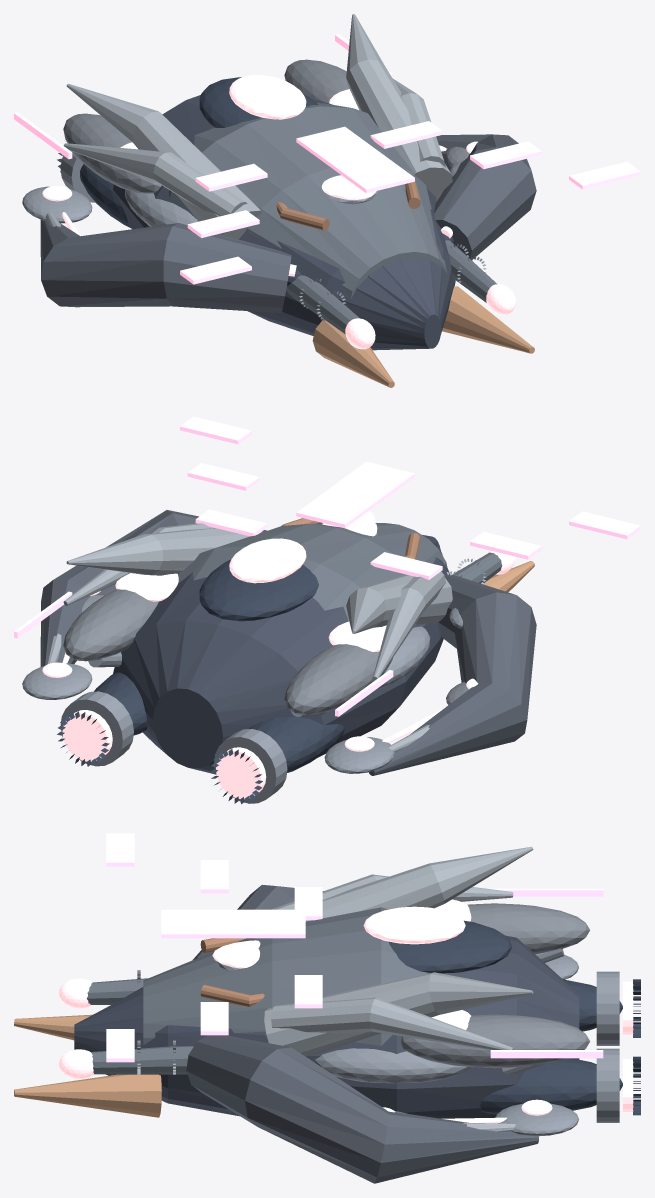
File: npc_bossMordon.glb
3 views of the same model, one above another, from view 1: azimuth 30°, elevation 25°; view 2: azimuth 150°, elevation 25°; view 3: azimuth 270°, elevation 25° (orthographic). The views are drawn at different scales.
Visible parts, largest first — view 1: upper_armor_scar, armored_scythe_-1, keel_pressure_hull, V59 trim baked, armored_scythe_1, prime_arch_back_1, prime_arch_back_-1, kharon_battle_bridge_-1, kharon_reinforced_nacelle_-1, prime_secondary_horn_1, prime_emitter, prime_secondary_horn_-1 (+13 smaller); view 2: keel_pressure_hull, armored_scythe_-1, V59 trim baked, upper_armor_scar, prime_arch_back_1, prime_reactor_tower, kharon_reinforced_nacelle_-1, kharon_reinforced_nacelle_1, armored_scythe_1, prime_arch_back_-1, engine_armor_-1, prime_emitter (+14 smaller); view 3: armored_scythe_1, keel_pressure_hull, upper_armor_scar, V59 trim baked, prime_arch_back_1, prime_arch_back_-1, kharon_battle_bridge_1, kharon_reinforced_nacelle_1, prime_secondary_horn_1, engine_armor_1, kharon_reinforced_nacelle_-1, prime_reactor_tower (+18 smaller).
Boxes of the visible parts, x1,y1,x2,y2 form: upper_armor_scar: (169, 103, 447, 298); armored_scythe_-1: (40, 220, 291, 312); keel_pressure_hull: (113, 95, 455, 350); V59 trim baked: (14, 34, 640, 284); armored_scythe_1: (434, 134, 536, 260); prime_arch_back_1: (346, 14, 452, 200); prime_arch_back_-1: (66, 83, 262, 239); kharon_battle_bridge_-1: (63, 143, 247, 216); kharon_reinforced_nacelle_-1: (63, 113, 161, 193); prime_secondary_horn_1: (442, 286, 534, 353); prime_emitter: (229, 75, 306, 119); prime_secondary_horn_-1: (312, 319, 394, 387); keel_pressure_hull: (113, 535, 450, 774); armored_scythe_-1: (369, 575, 536, 775); V59 trim baked: (14, 416, 640, 716); upper_armor_scar: (178, 523, 447, 621); prime_arch_back_1: (66, 528, 261, 575); prime_reactor_tower: (199, 559, 318, 621); kharon_reinforced_nacelle_-1: (284, 644, 392, 715); kharon_reinforced_nacelle_1: (63, 589, 158, 661); armored_scythe_1: (40, 510, 266, 666); prime_arch_back_-1: (346, 574, 452, 633); engine_armor_-1: (249, 716, 344, 772); prime_emitter: (229, 538, 306, 583); armored_scythe_1: (186, 1035, 538, 1183); keel_pressure_hull: (74, 935, 579, 1118); upper_armor_scar: (143, 907, 427, 1045); V59 trim baked: (106, 833, 603, 1062); prime_arch_back_1: (264, 972, 533, 1056); prime_arch_back_-1: (305, 846, 533, 921); kharon_battle_bridge_1: (271, 997, 513, 1049); kharon_reinforced_nacelle_1: (401, 1014, 590, 1068); prime_secondary_horn_1: (14, 1074, 161, 1117); engine_armor_1: (480, 1058, 622, 1114); kharon_reinforced_nacelle_-1: (467, 903, 589, 954); prime_reactor_tower: (388, 920, 512, 973).
Size of the model in its own units: 4.01 by 1.51 by 4.34.
